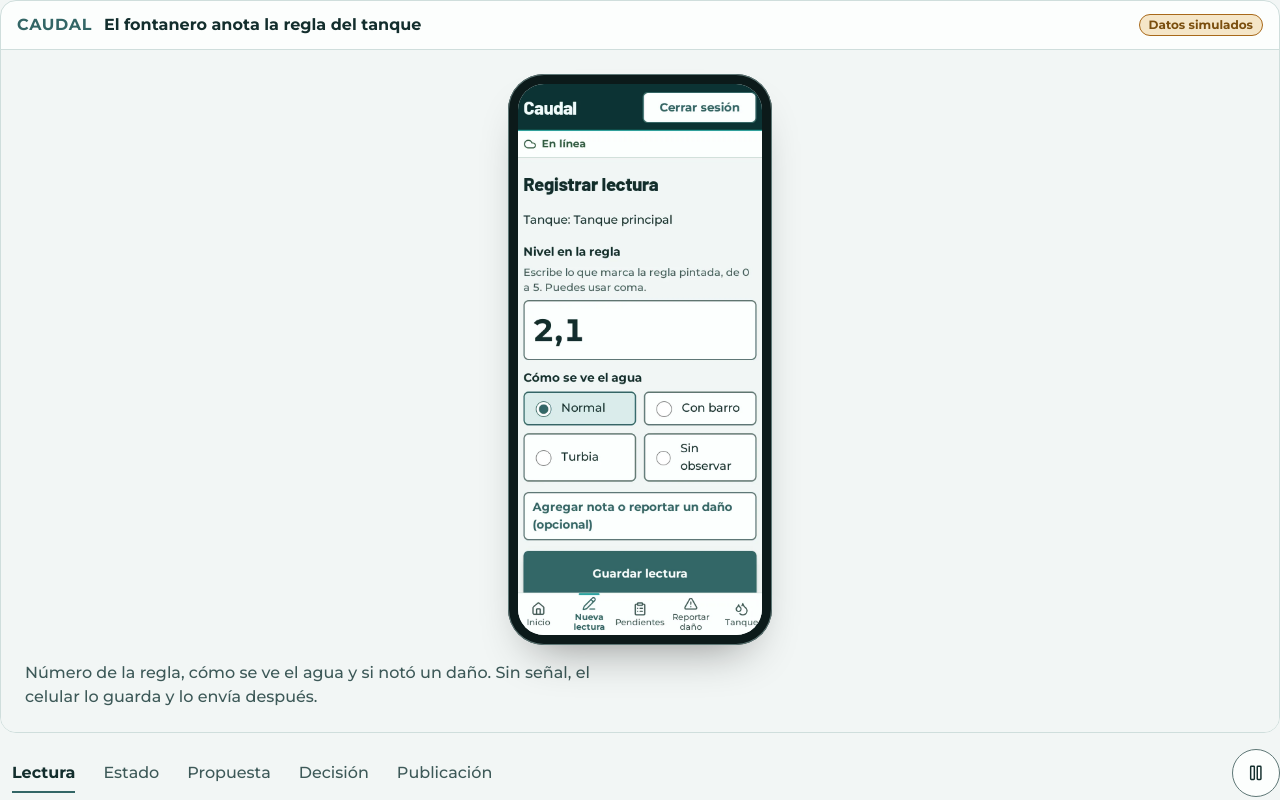
it: FlowShowcase › toggles the play button name between pause and play
This screenshot has width=1280, height=800.
Click the button named "Pausar el recorrido".
click(1256, 773)  # box x1=1232 y1=749 x2=1279 y2=797
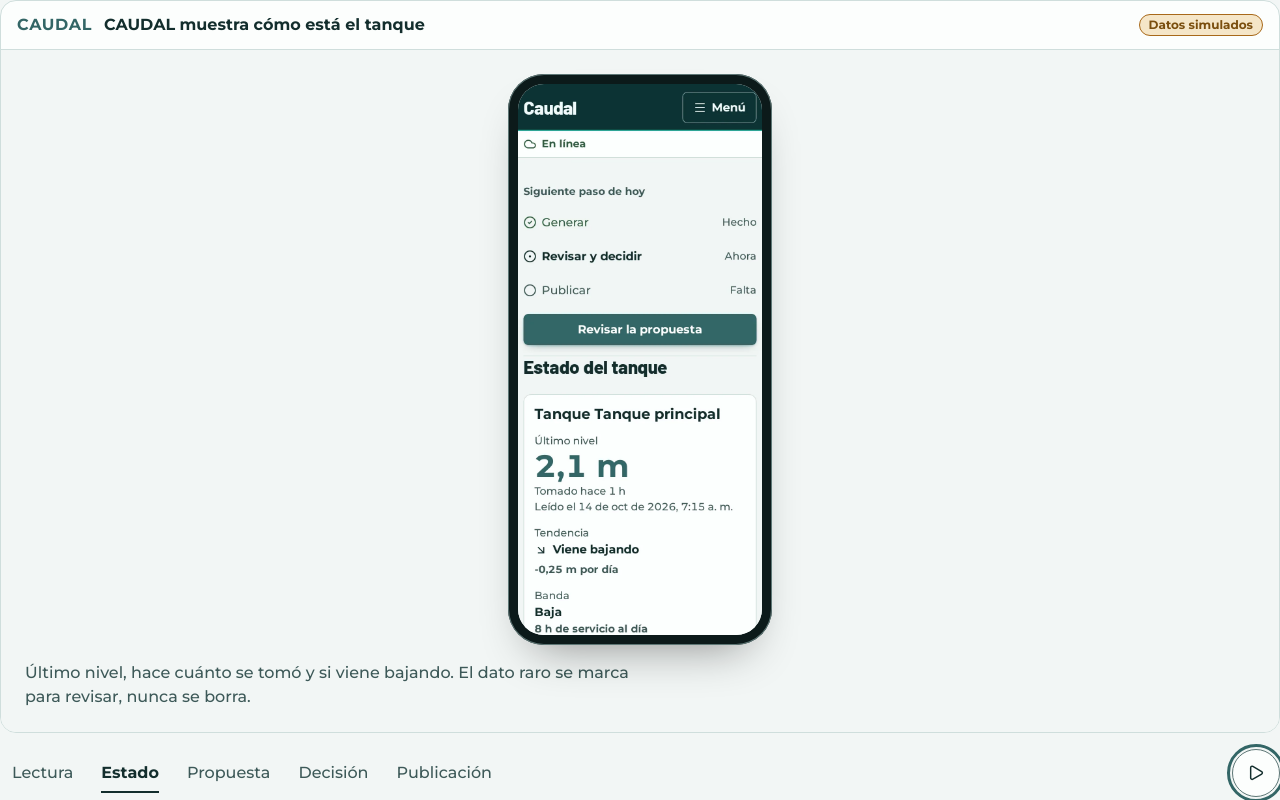
Result: the button named "Reanudar el recorrido" is shown
Click the button named "Reanudar el recorrido".
click(1256, 773)  # box x1=1232 y1=749 x2=1279 y2=797
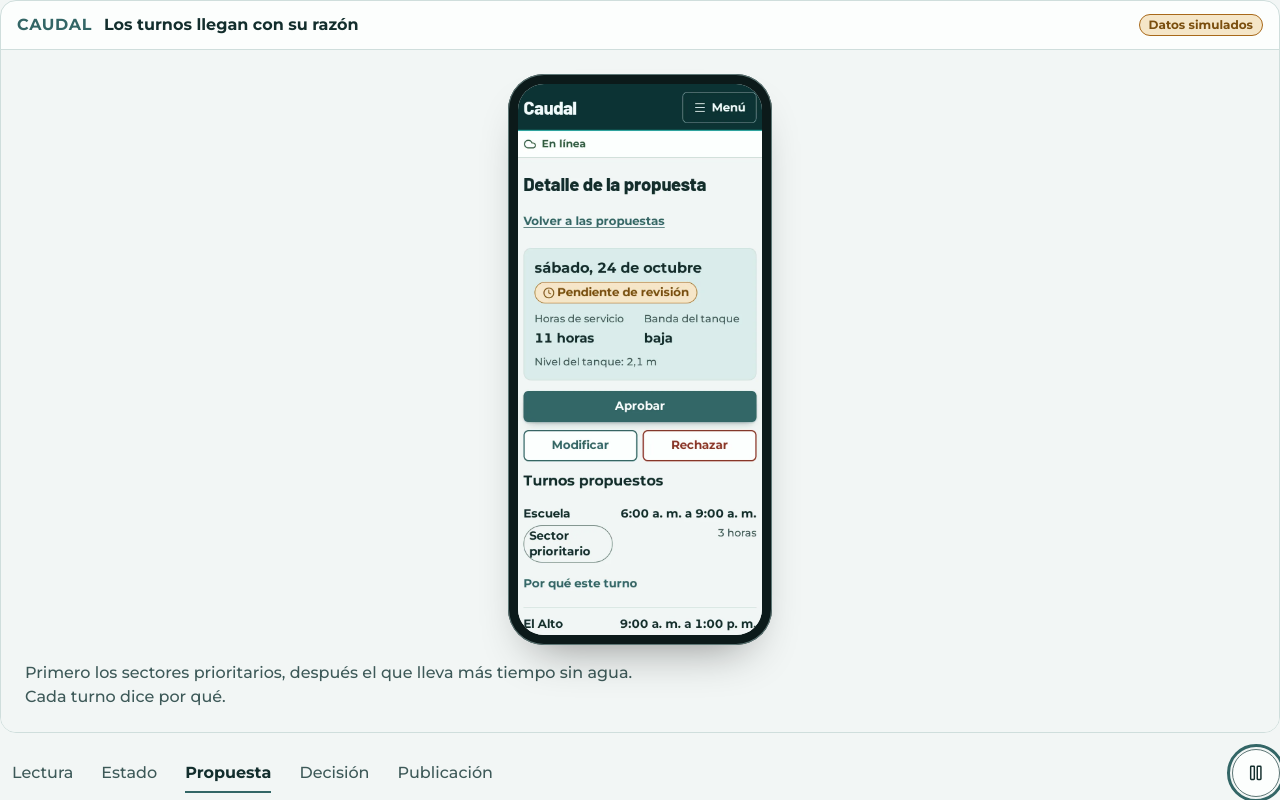
Result: the button named "Pausar el recorrido" is shown at x1=1232 y1=749 x2=1279 y2=797
